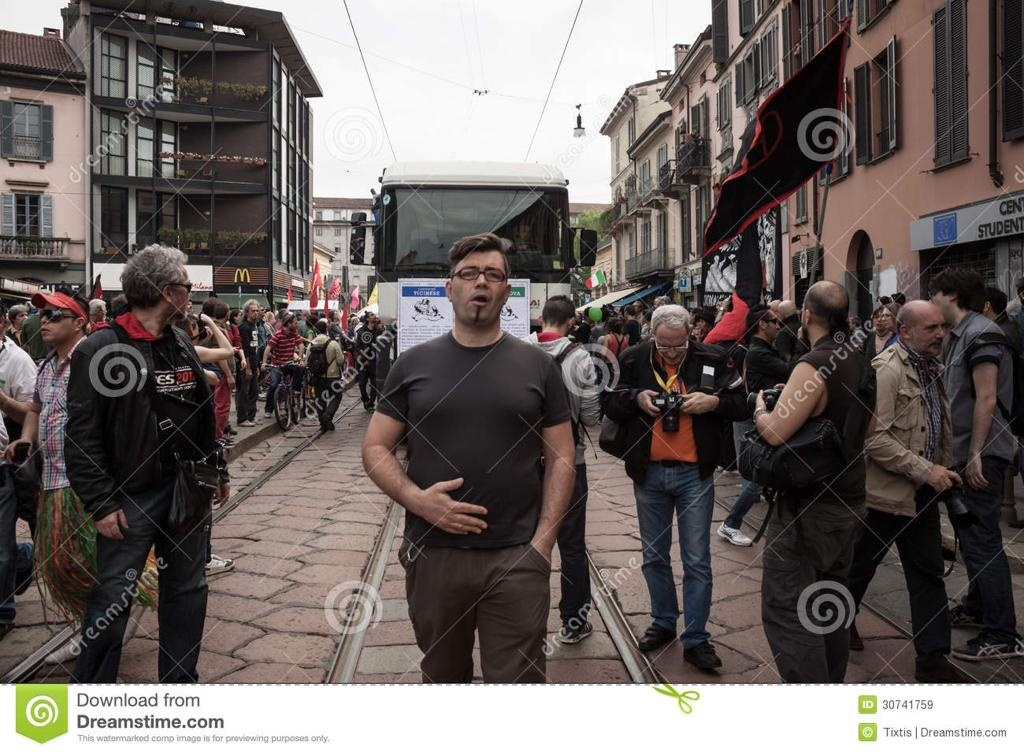human_face: (451, 251, 507, 320), (908, 308, 944, 354), (656, 322, 688, 364), (39, 304, 73, 340), (162, 273, 188, 319), (926, 287, 950, 323), (759, 310, 779, 338), (800, 297, 812, 330), (880, 309, 894, 328), (16, 310, 28, 328), (95, 304, 107, 322), (519, 223, 531, 239), (872, 312, 884, 328), (247, 304, 257, 320), (287, 316, 297, 332), (696, 318, 706, 330), (630, 302, 638, 312), (368, 312, 376, 322), (654, 302, 662, 310), (848, 318, 854, 328), (186, 300, 192, 310), (234, 312, 240, 322), (259, 306, 265, 316), (332, 311, 338, 319), (615, 307, 619, 313), (575, 313, 579, 319), (353, 320, 357, 326)
